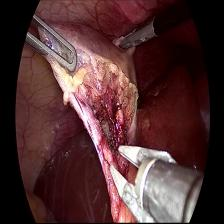Clipper: (106, 141, 200, 223)
Grasper: (26, 12, 78, 75), (110, 14, 163, 56)
